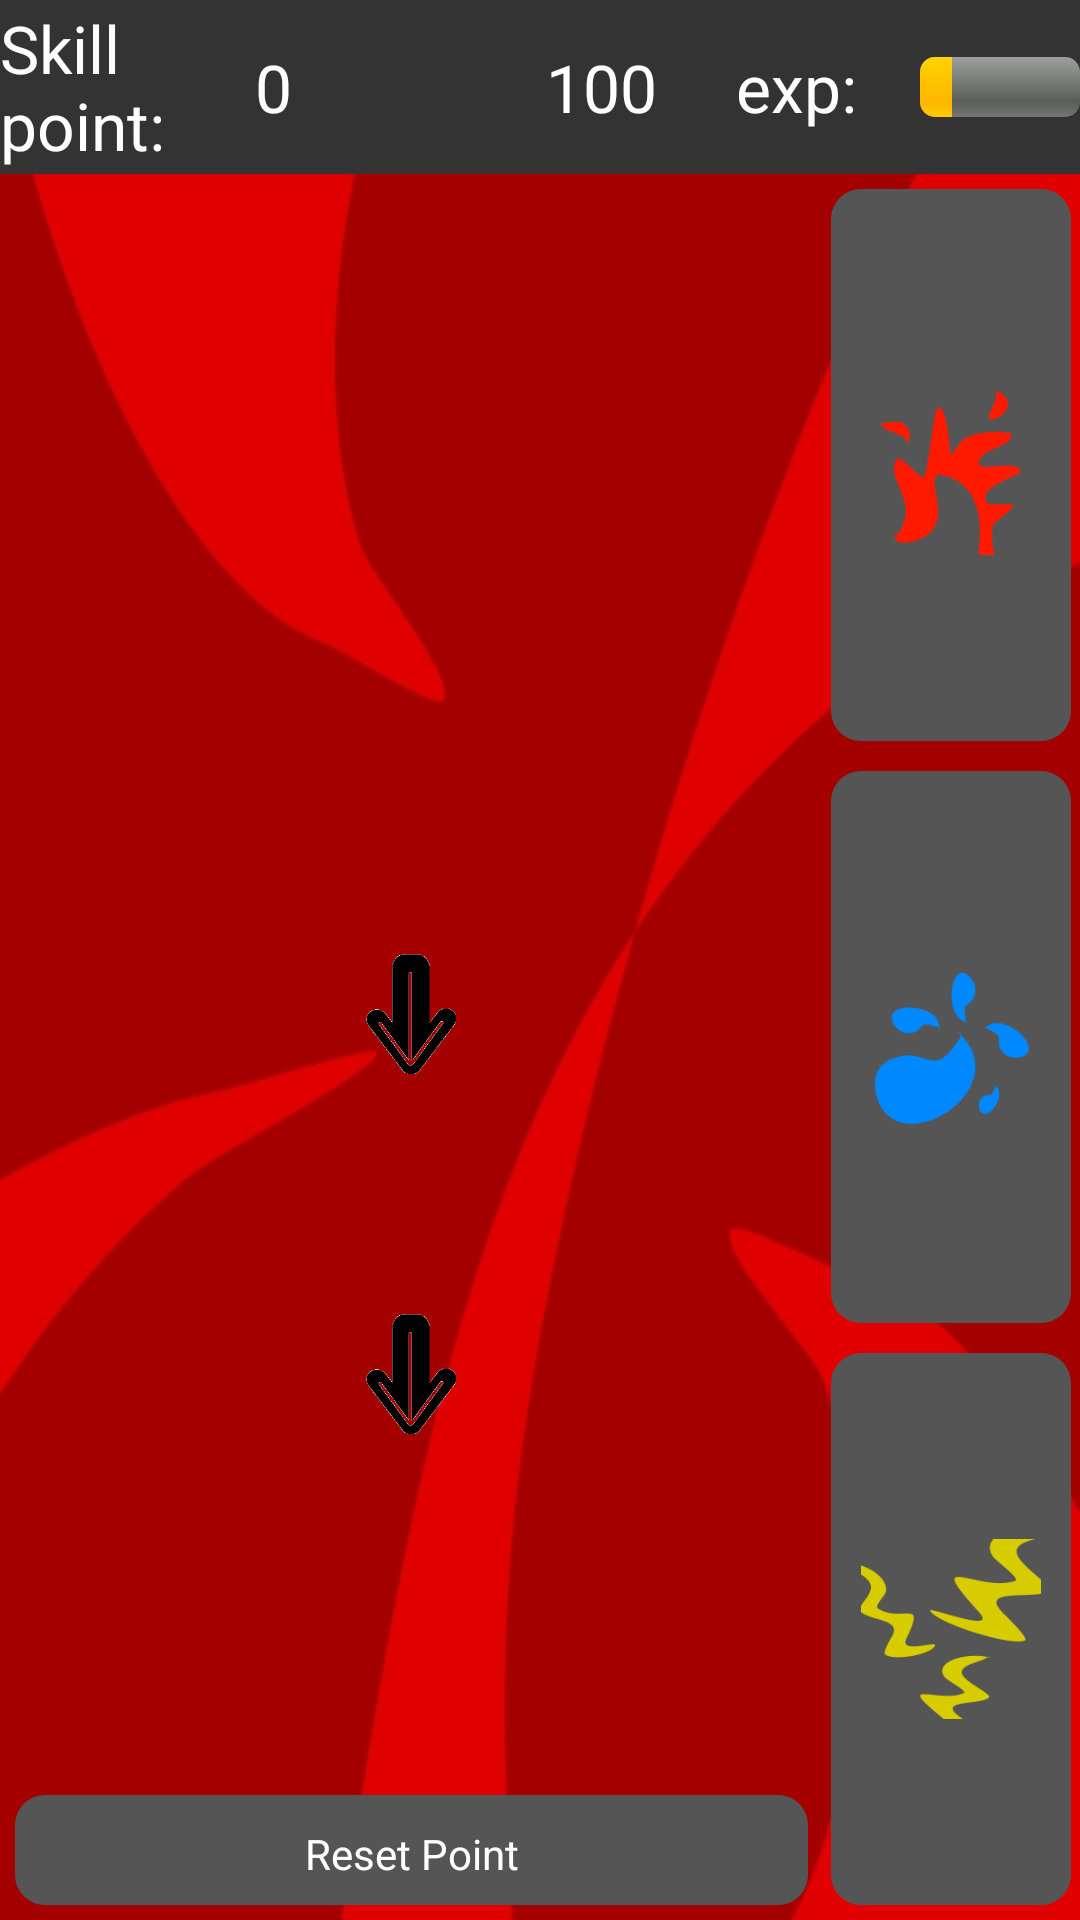

Point at icon controls on the screen. Image size 1080x1920, points as point (x, y).
treearrow: point (411, 1014), point (411, 1374)
